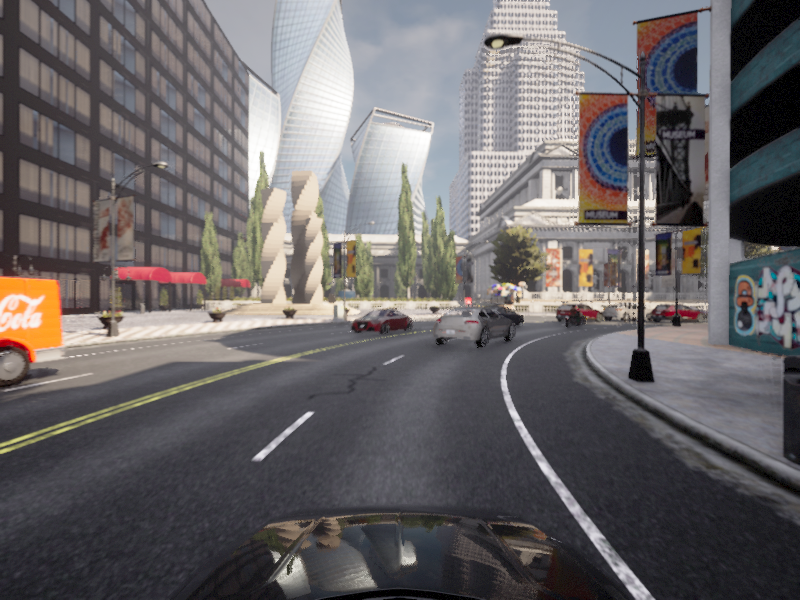vehicle: (426, 305, 517, 351), (346, 308, 415, 336), (465, 305, 527, 330), (702, 303, 774, 322), (645, 303, 709, 324), (598, 303, 657, 322), (551, 303, 606, 323), (651, 305, 716, 320), (561, 304, 588, 328)
